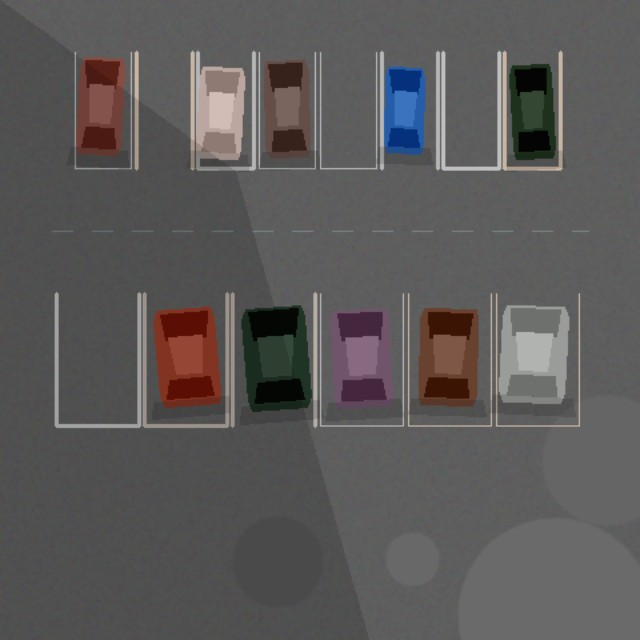space-empty: (56, 293, 139, 425), (136, 52, 192, 168), (320, 52, 376, 168), (443, 52, 499, 168)
space-occupied: (144, 293, 227, 425), (232, 293, 315, 425), (320, 293, 403, 425), (408, 293, 491, 425), (496, 293, 579, 425), (75, 52, 131, 168), (197, 52, 253, 168), (259, 52, 315, 168), (381, 52, 437, 168), (504, 52, 560, 168)
